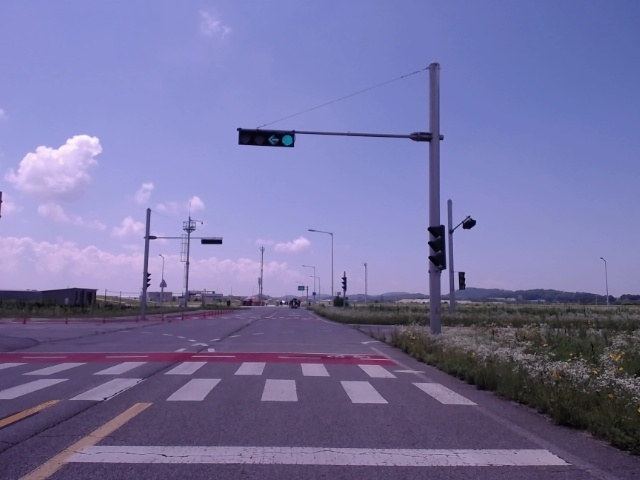all_green_4: (238, 127, 297, 149)
